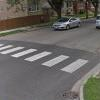Crosswalk: (0, 38, 99, 73)
